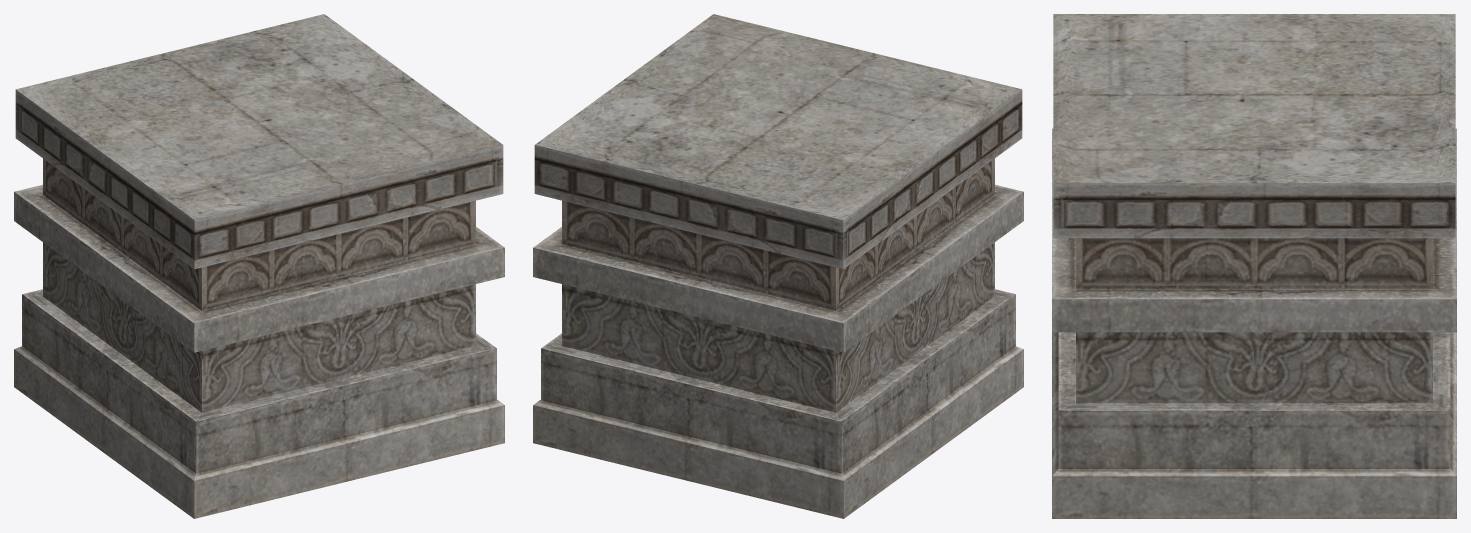
File: bg_lut_lucastle_churchtower01_sm_ksh.FBX
The picture shows the model from 3 angles, left to right: view 1: azimuth 30°, elevation 25°; view 2: azimuth 150°, elevation 25°; view 3: azimuth 270°, elevation 25°; orthographic projection. The views are drawn at different scales.
Visible parts, largest first — view 1: bg_lut_lucastle_churchtower01_sm_ksh; view 2: bg_lut_lucastle_churchtower01_sm_ksh; view 3: bg_lut_lucastle_churchtower01_sm_ksh.
Part boxes in pixels (<box>): bg_lut_lucastle_churchtower01_sm_ksh: <box>14,14,504,518</box>; bg_lut_lucastle_churchtower01_sm_ksh: <box>533,14,1023,518</box>; bg_lut_lucastle_churchtower01_sm_ksh: <box>1052,14,1456,518</box>.
Size of the model in its own units: 152 by 139 by 152.
